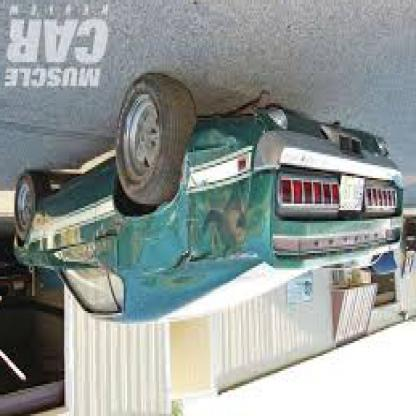dent: (190, 194, 248, 256)
